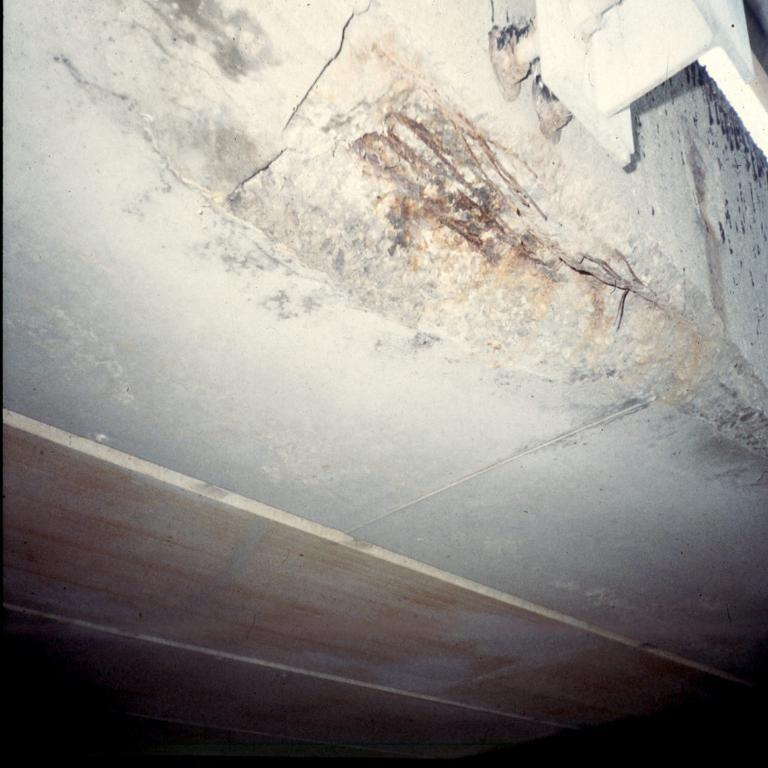spalling: (225, 26, 768, 454)
